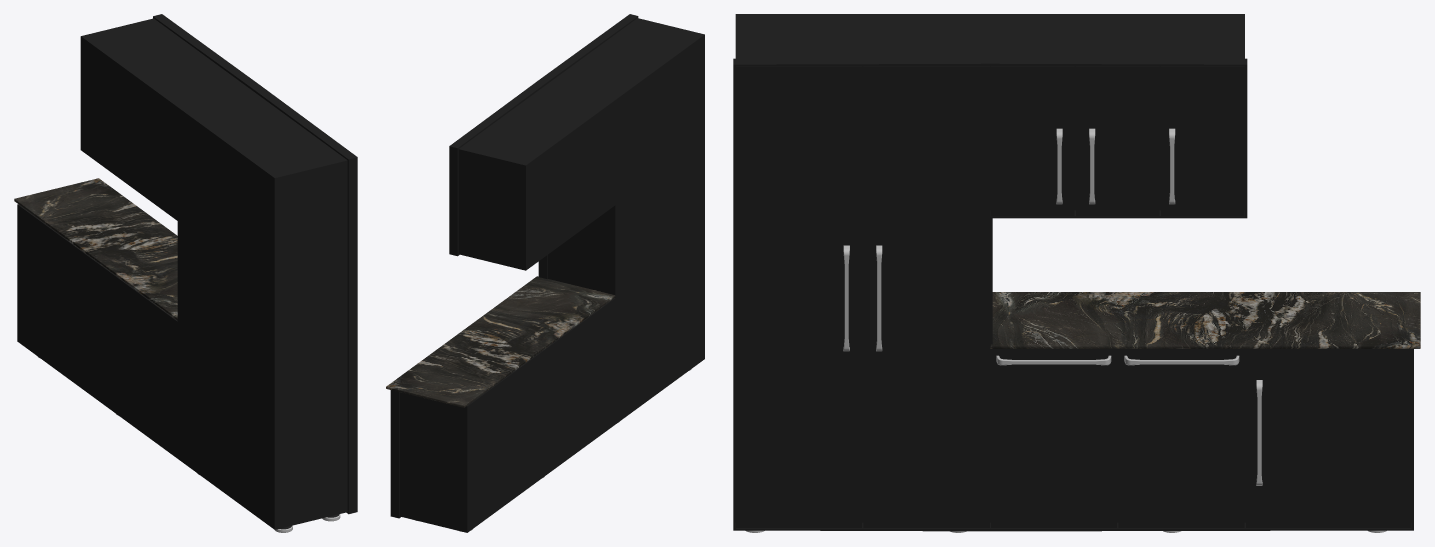
Rendered from cabinet2.glb.
The picture shows the model from 3 angles, left to right: view 1: azimuth 30°, elevation 25°; view 2: azimuth 150°, elevation 25°; view 3: azimuth 270°, elevation 25°; orthographic projection. The views are drawn at different scales.
Visible parts, largest first — view 1: CABINET.001_0, CABINET.005_4; view 2: CABINET.001_0, CABINET.005_4; view 3: CABINET.002_1, CABINET.001_0, CABINET.005_4, CABINET.004_3.
Part boxes in pixels (bbox=[...]): CABINET.001_0: bbox=[17, 14, 357, 529]; CABINET.005_4: bbox=[14, 178, 177, 320]; CABINET.001_0: bbox=[390, 14, 704, 532]; CABINET.005_4: bbox=[386, 276, 615, 407]; CABINET.002_1: bbox=[735, 66, 1411, 528]; CABINET.001_0: bbox=[733, 14, 1413, 531]; CABINET.005_4: bbox=[990, 292, 1420, 348]; CABINET.004_3: bbox=[843, 128, 1262, 485].
Size of the model in its own units: 0.5295 by 2.06 by 2.7.
4 materials, 1 textured.
